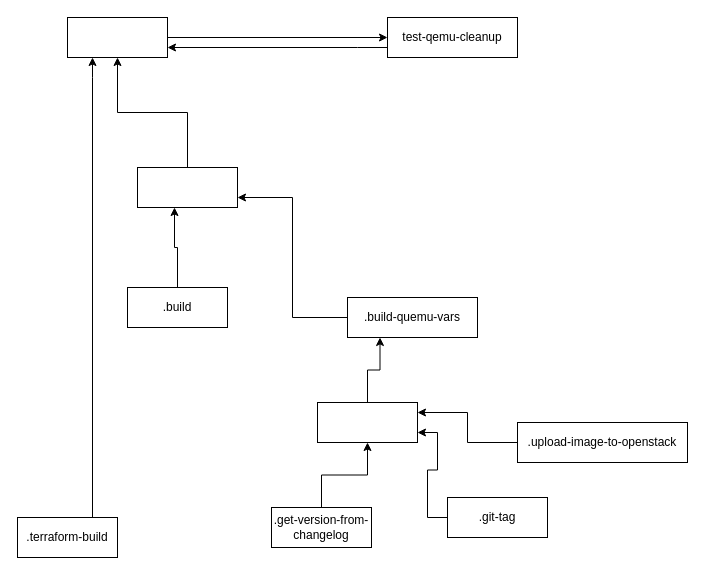
The diagram is 705 pixels wide and 575 high, and some of its shapes have lost their labels. Here are the shapes that lost their labels. From the top down, the box of each, then its label:
(66, 16, 168, 58): test-qemu
(136, 166, 238, 208): build-qemu
(316, 402, 418, 442): deploy-qemu
